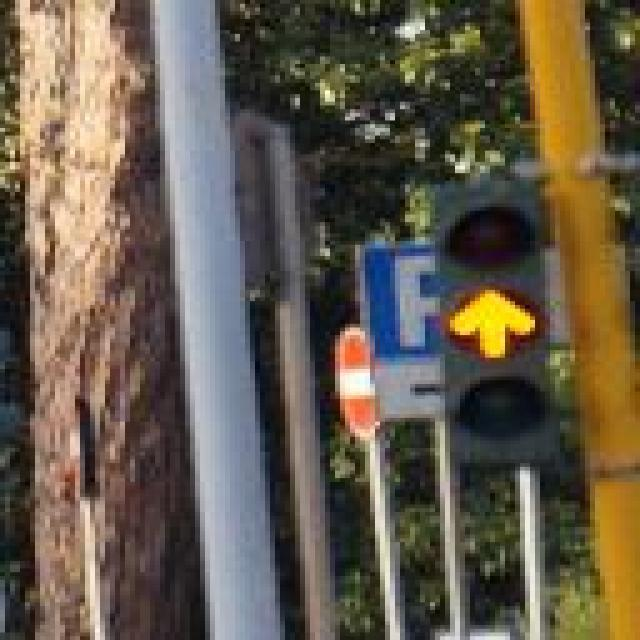yellow_light: (440, 189, 553, 445)
